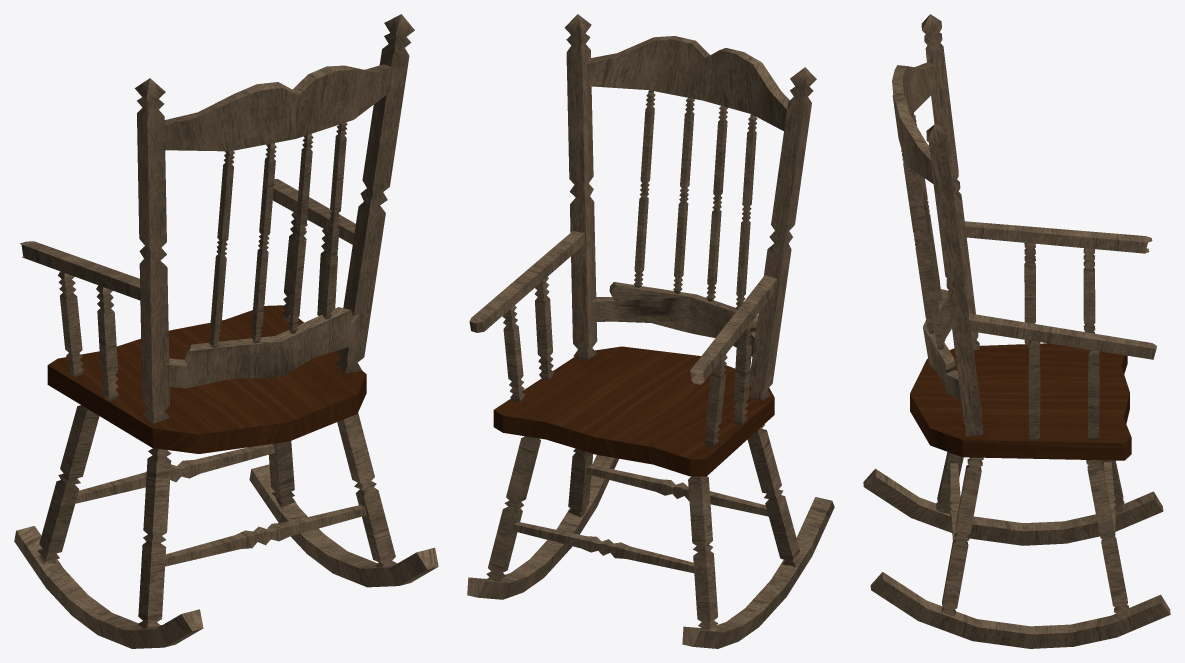
The model's file is chair.gltf.
The picture shows the model from 3 angles, left to right: view 1: azimuth 30°, elevation 25°; view 2: azimuth 150°, elevation 25°; view 3: azimuth 270°, elevation 25°; orthographic projection. The views are drawn at different scales.
Visible parts, largest first — view 1: Cube.026; view 2: Cube.026; view 3: Cube.026.
Part boxes in pixels (bbox=[...]): Cube.026: bbox=[14, 14, 438, 648]; Cube.026: bbox=[467, 14, 834, 648]; Cube.026: bbox=[863, 14, 1170, 648].
Size of the model in its own units: 1.36 by 2.85 by 1.5.
1 material, 1 textured.
